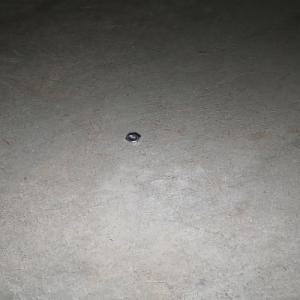Nut: (124, 133, 140, 142)
